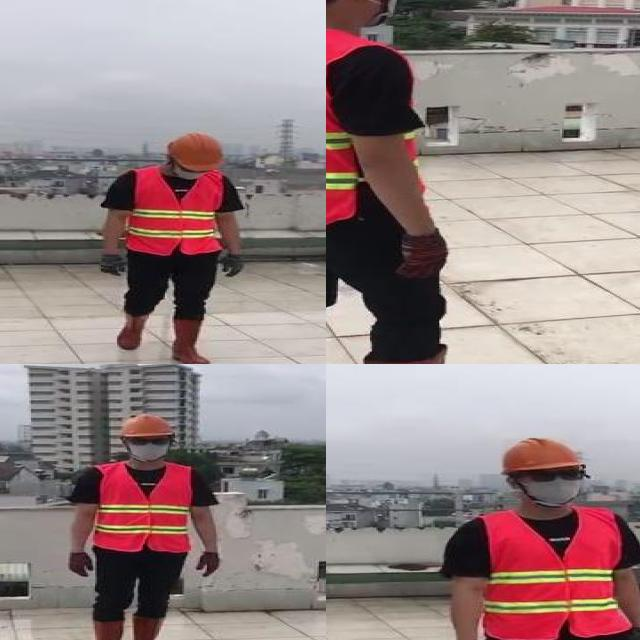boots: (170, 319, 212, 364), (117, 308, 149, 352), (128, 613, 169, 640), (91, 617, 125, 640)
face_mask: (524, 462, 588, 503), (126, 434, 172, 460)
glasses: (524, 465, 591, 486), (126, 435, 172, 447)
hand_glove: (397, 235, 450, 280), (98, 253, 128, 277), (67, 553, 95, 576), (220, 254, 245, 277), (200, 550, 221, 577)
head_helmet: (326, 0, 507, 364), (492, 434, 588, 475), (116, 413, 177, 438)
person: (431, 434, 640, 640), (60, 414, 227, 640), (164, 128, 226, 172)
vest: (472, 509, 630, 638), (326, 28, 421, 226), (93, 463, 193, 554), (128, 167, 224, 256)
